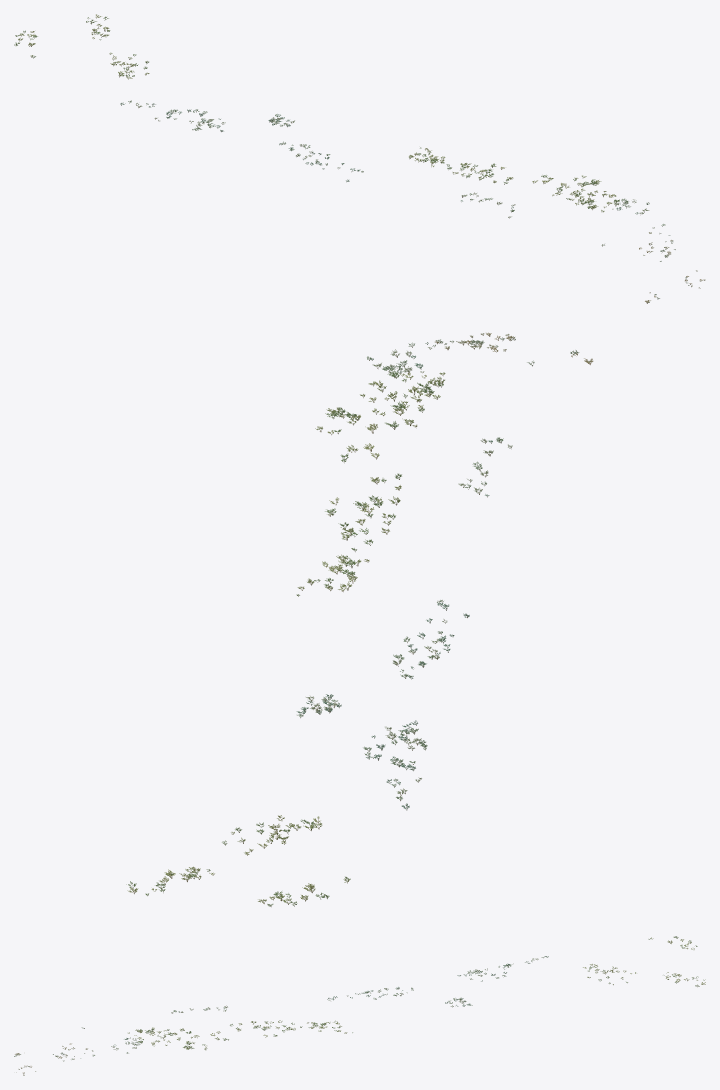
The model's file is reach-scrub.glb.
3 renders of one model, top to bottom at view 1: azimuth 30°, elevation 25°; view 2: azimuth 150°, elevation 25°; view 3: azimuth 270°, elevation 25°, orthographic. The views are drawn at different scales.
Parts seen in each view (by area): view 1: Reach_05_scrub, Reach_06_scrub; view 2: Reach_05_scrub, Reach_06_scrub, Reach_04_scrub, Reach_02_scrub; view 3: Reach_05_scrub, Reach_06_scrub.
Part boxes in pixels (left/top/right/bottom): Reach_05_scrub: left=461, top=163, right=601, bottom=218; Reach_06_scrub: left=566, top=190, right=675, bottom=249; Reach_05_scrub: left=315, top=407, right=512, bottom=528; Reach_06_scrub: left=360, top=339, right=534, bottom=412; Reach_04_scrub: left=296, top=520, right=469, bottom=617; Reach_02_scrub: left=302, top=696, right=427, bottom=782; Reach_05_scrub: left=171, top=1005, right=284, bottom=1050; Reach_06_scrub: left=63, top=1027, right=172, bottom=1061.
Size of the model in its own units: 79.96 by 10 by 188.
